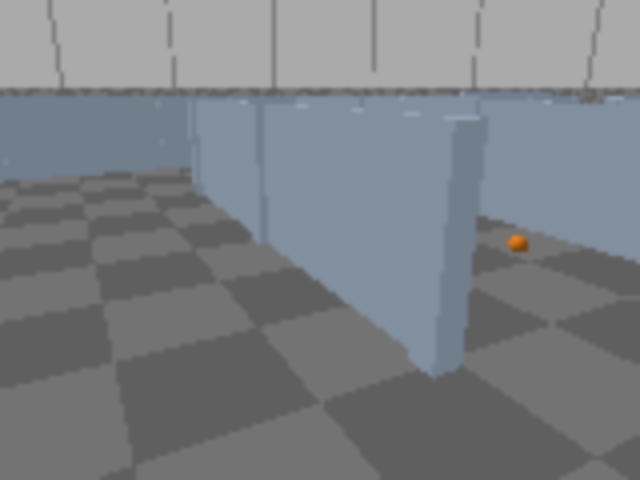puck: (505, 233, 533, 256)
